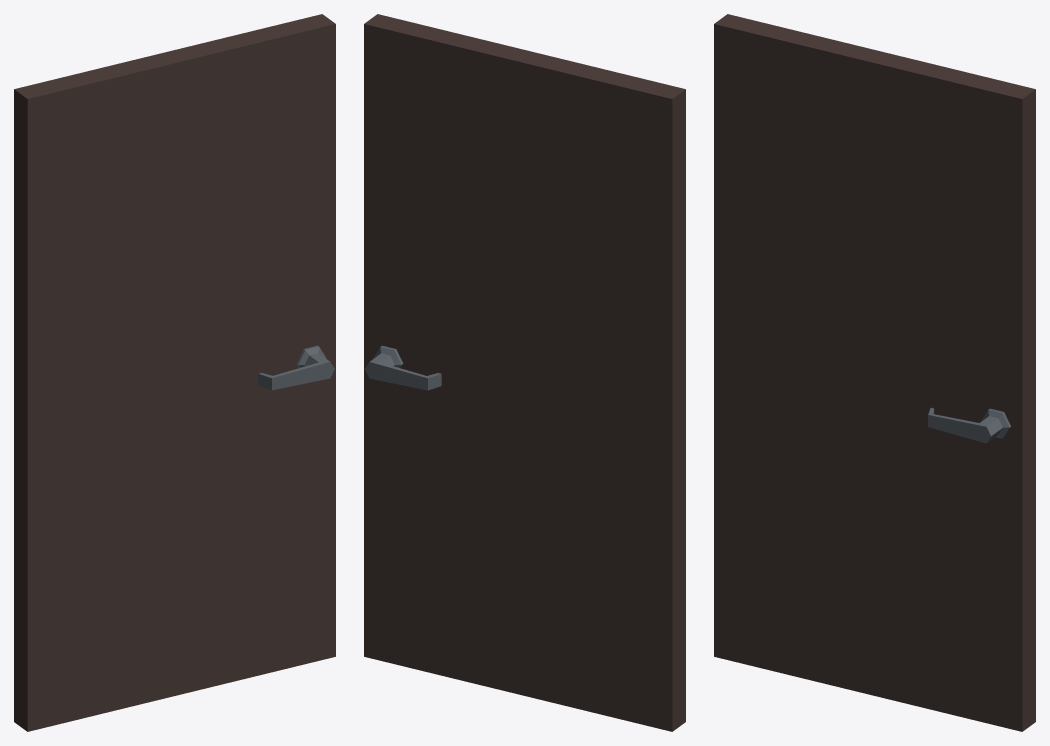
File: elven_SM_Bld_Base_Door_01.gltf
The picture shows the model from 3 angles, left to right: view 1: azimuth 30°, elevation 25°; view 2: azimuth 150°, elevation 25°; view 3: azimuth 330°, elevation 25°; orthographic projection.
Visible parts, largest first — view 1: SM_Bld_Base_Door_01; view 2: SM_Bld_Base_Door_01; view 3: SM_Bld_Base_Door_01.
Part boxes in pixels (x1,y1,x2,y2): SM_Bld_Base_Door_01: (14,14,335,731); SM_Bld_Base_Door_01: (364,14,685,731); SM_Bld_Base_Door_01: (714,14,1035,731).
Size of the model in its own units: 1 by 1.97 by 0.2473.
Materials: 1 (1 with a texture image).
